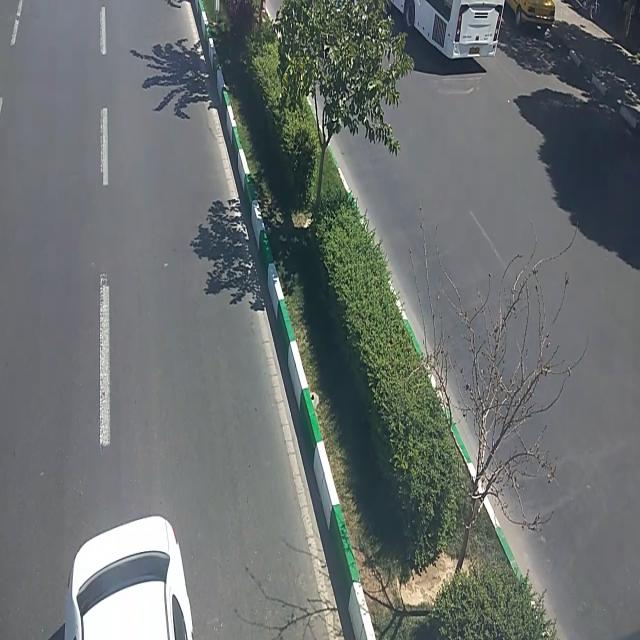bus: (386, 3, 504, 65)
car: (62, 513, 195, 640), (506, 4, 560, 32)
